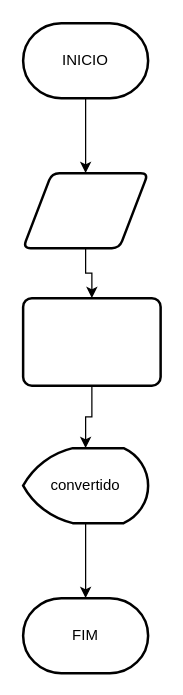
The diagram is 183 pixels wide and 695 high, and some of its shapes have lost their labels. Each missing label, with the box of its shape:
convertido=(minutos/60)+horas: (21, 296, 161, 386)
minutos,horas: (21, 171, 149, 249)
